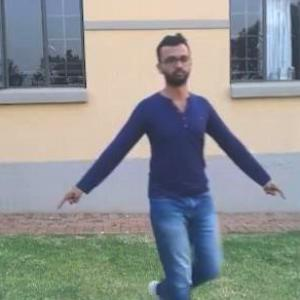land: (98, 58, 264, 299)
